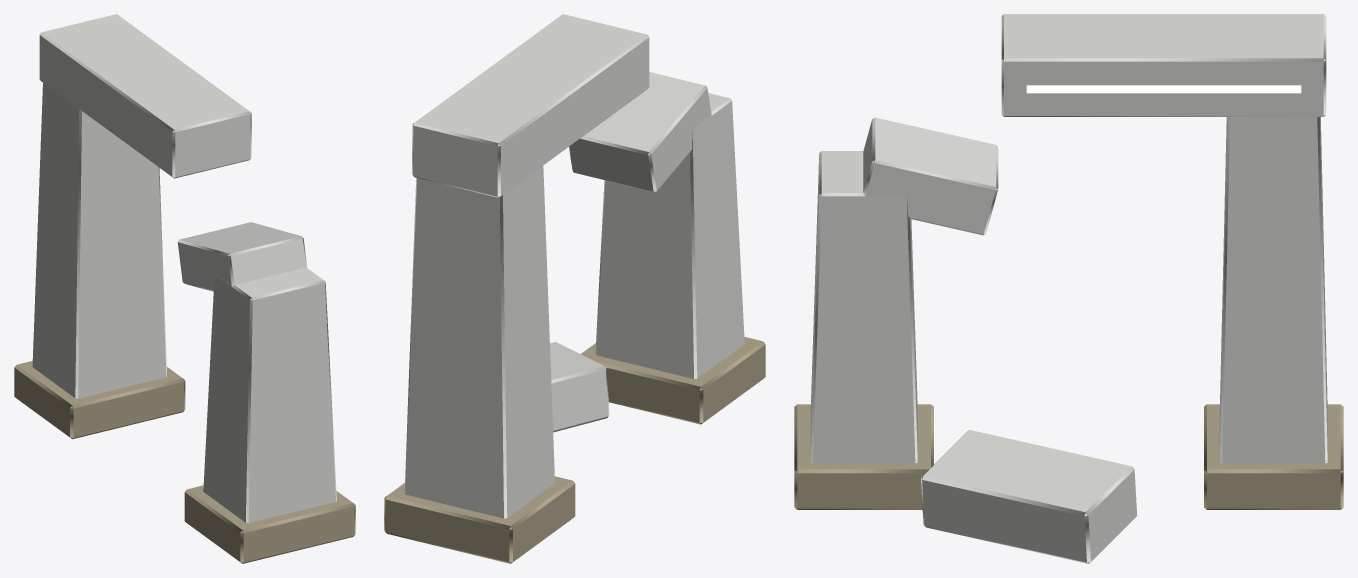
Rendered from SM_SB_Kit_Arch.fbx.
3 renders of one model, left to right at view 1: azimuth 30°, elevation 25°; view 2: azimuth 150°, elevation 25°; view 3: azimuth 270°, elevation 25°, orthographic. The views are drawn at different scales.
Visible parts, largest first — view 1: SM_SB_Kit_Arch; view 2: SM_SB_Kit_Arch; view 3: SM_SB_Kit_Arch.
Part boxes in pixels (x1,y1,x2,y2): SM_SB_Kit_Arch: (14, 14, 355, 563); SM_SB_Kit_Arch: (384, 14, 765, 563); SM_SB_Kit_Arch: (794, 14, 1343, 563).
Bounding box in the file's own units: 1107 × 2200 × 1980.
